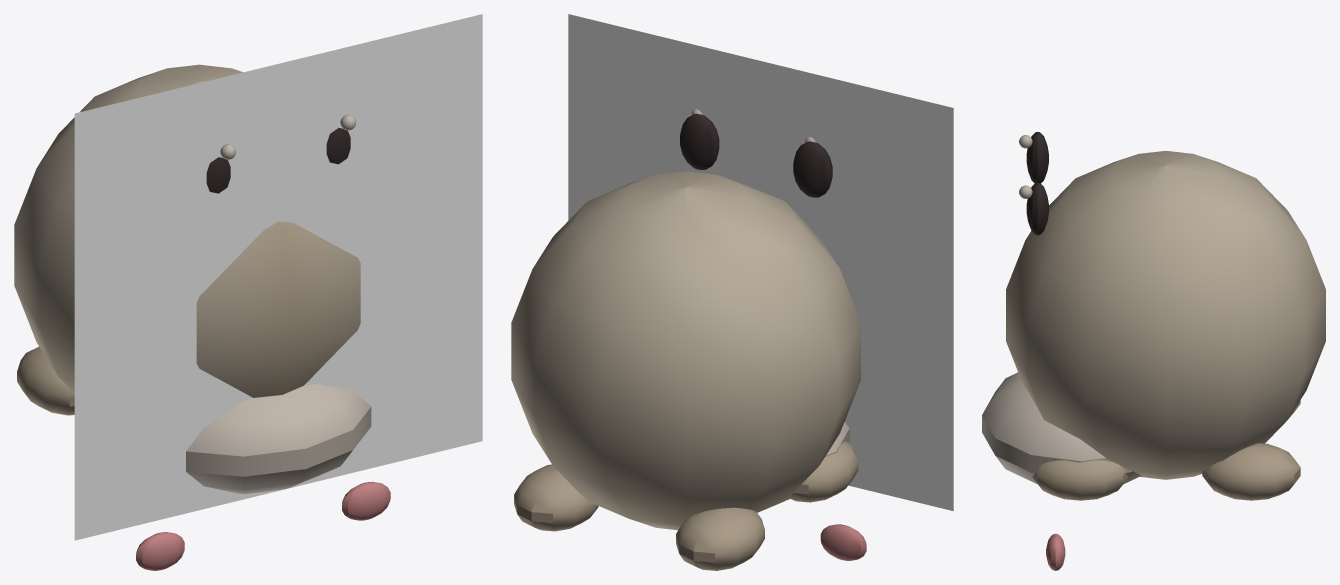
The picture shows the model from 3 angles, left to right: view 1: azimuth 30°, elevation 25°; view 2: azimuth 150°, elevation 25°; view 3: azimuth 270°, elevation 25°; orthographic projection. The views are drawn at different scales.
Parts seen in each view (by area): view 1: pet_p2dc87089; view 2: pet_p2dc87089; view 3: pet_p2dc87089.
Part boxes in pixels (<box>): pet_p2dc87089: <box>14,14,482,570</box>; pet_p2dc87089: <box>511,14,953,570</box>; pet_p2dc87089: <box>982,132,1325,570</box>.
Bounding box in the file's own units: 0.476 × 0.5482 × 0.4023.
